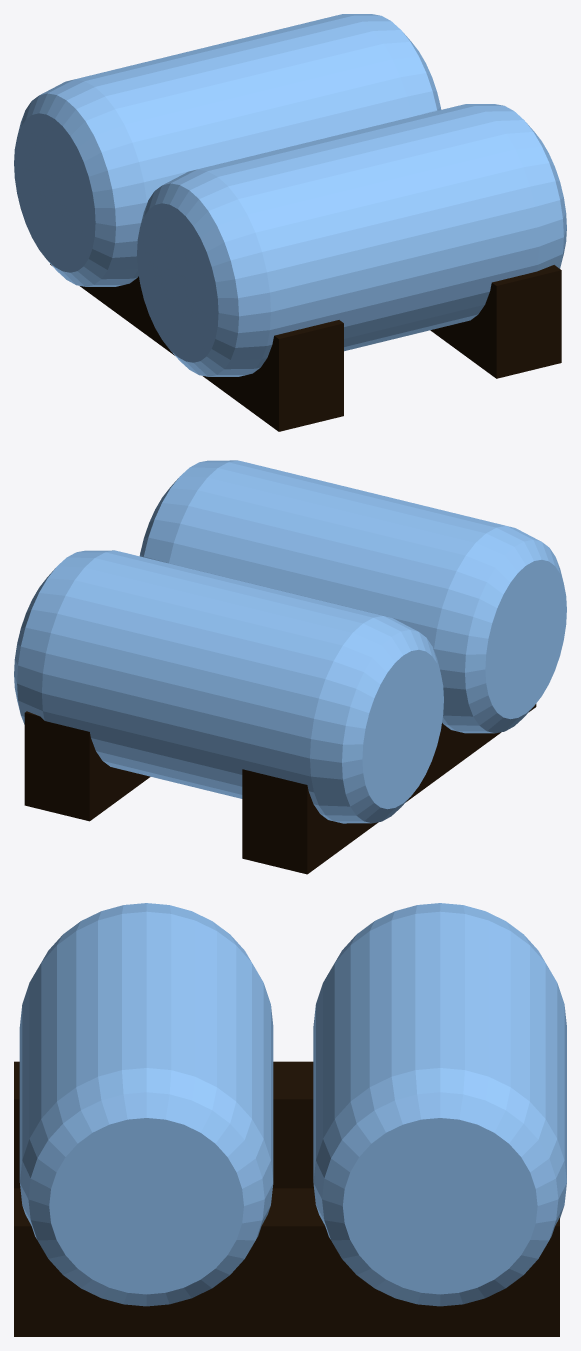
The model's file is Barrel.fbx.
3 views of the same model, one above another, from view 1: azimuth 30°, elevation 25°; view 2: azimuth 150°, elevation 25°; view 3: azimuth 270°, elevation 25° (orthographic). The views are drawn at different scales.
Parts seen in each view (by area): view 1: Barrel; view 2: Barrel; view 3: Barrel.
Part boxes in pixels (left/top/right/bottom): Barrel: left=14, top=14, right=566, bottom=431; Barrel: left=14, top=460, right=566, bottom=874; Barrel: left=14, top=903, right=566, bottom=1336.
Size of the model in its own units: 251 by 149 by 289.
